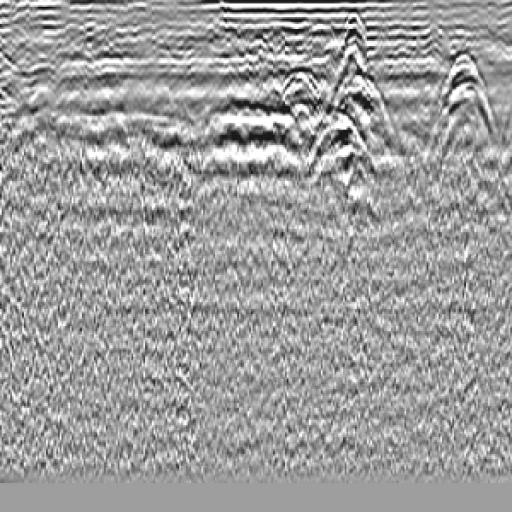metalic: (320, 8, 407, 224)
nonmetalic: (426, 39, 512, 189), (246, 34, 335, 136)
